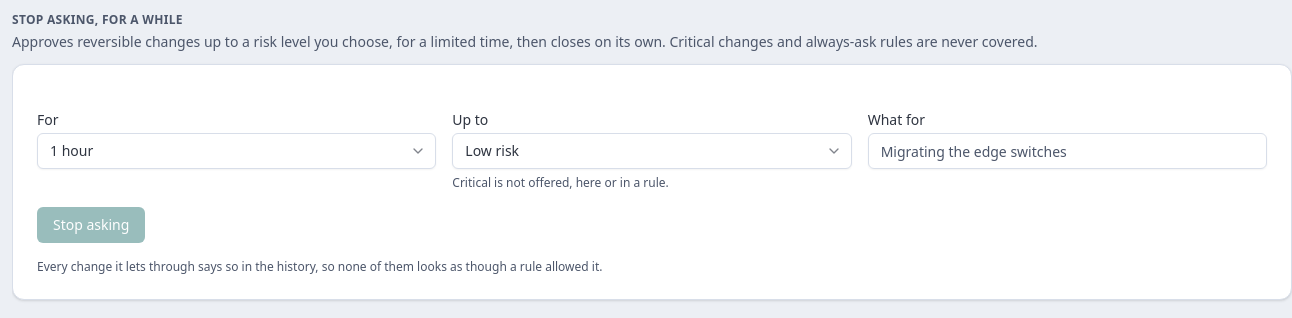
it: stopping the asking for a while › will not open one without a reason
Expected: the button "Stop asking" is disabled, left=37, top=207, right=145, bottom=243
Type "migrating the switches" into the field labelled "What for". click: (1067, 151)
box: left=868, top=133, right=1267, bottom=169
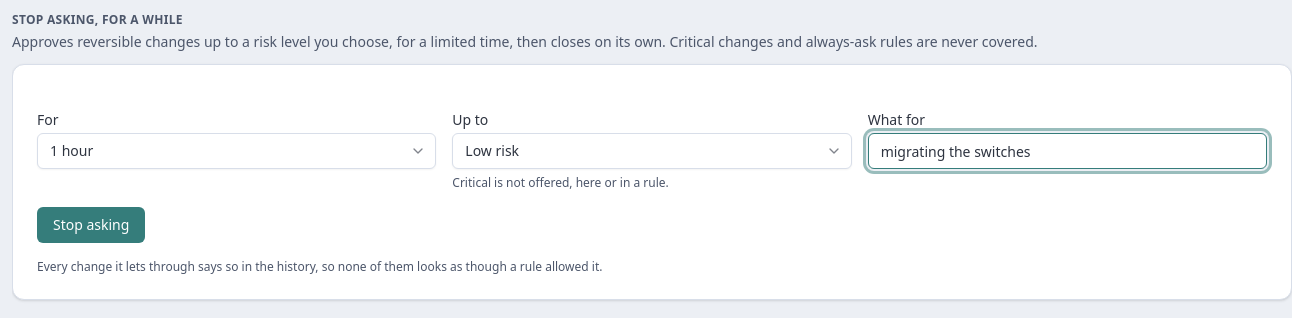
Result: the button "Stop asking" is enabled at left=37, top=207, right=145, bottom=243
